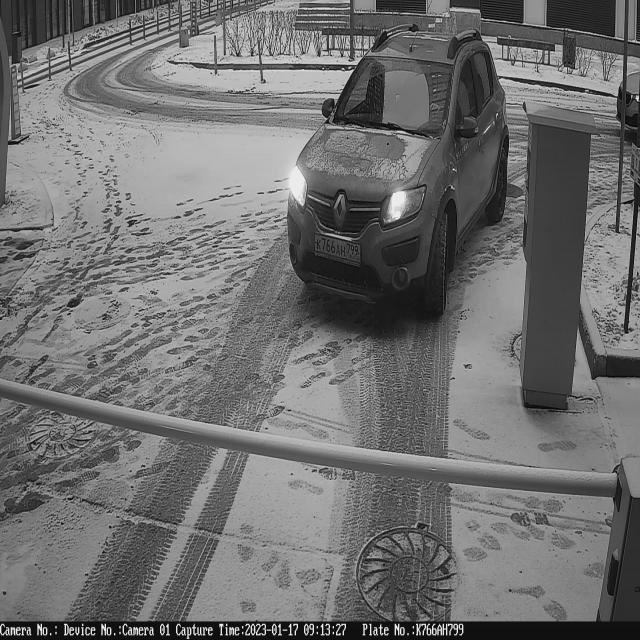car-plate-numbers: (309, 226, 364, 272)
